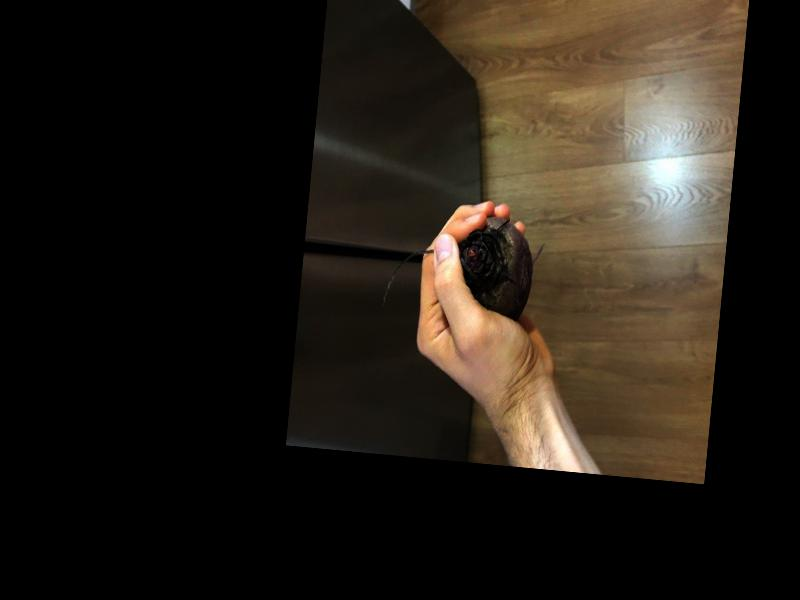Beet: (381, 206, 537, 322)
